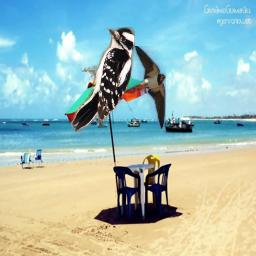Swallow: (117, 46, 166, 129)
Woodpecker: (71, 27, 135, 133)
